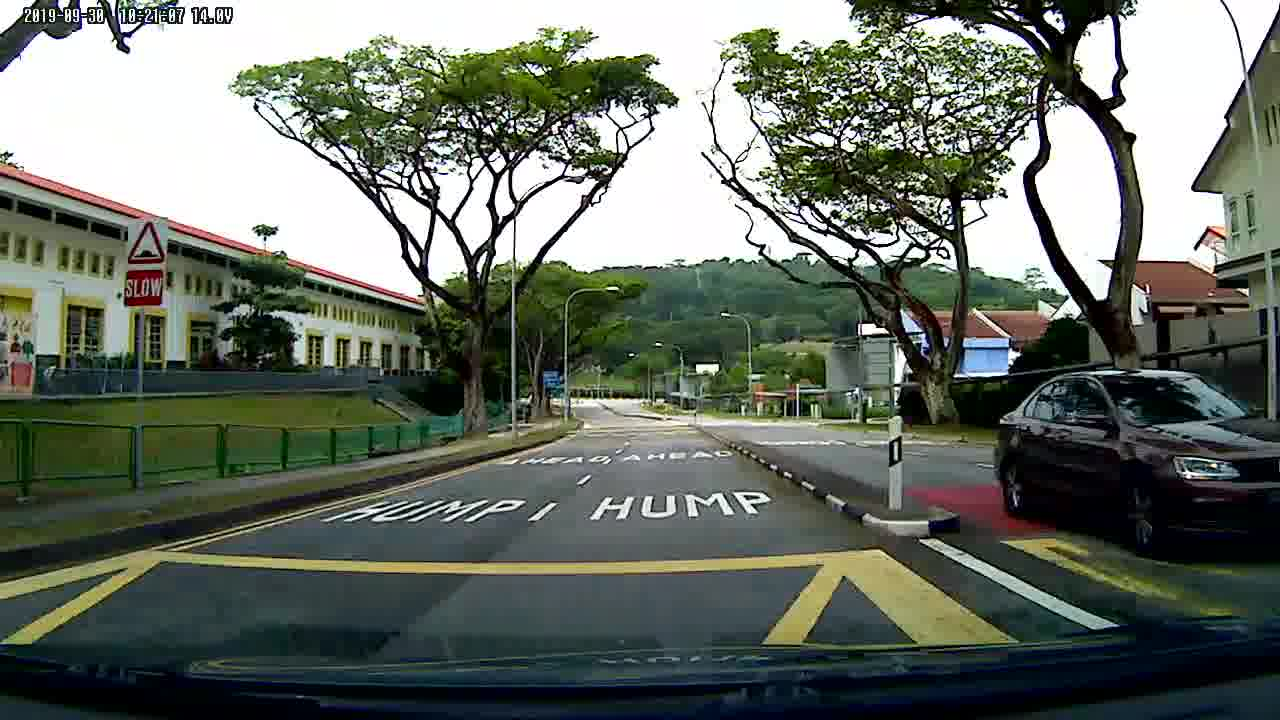car: (998, 369, 1280, 555)
